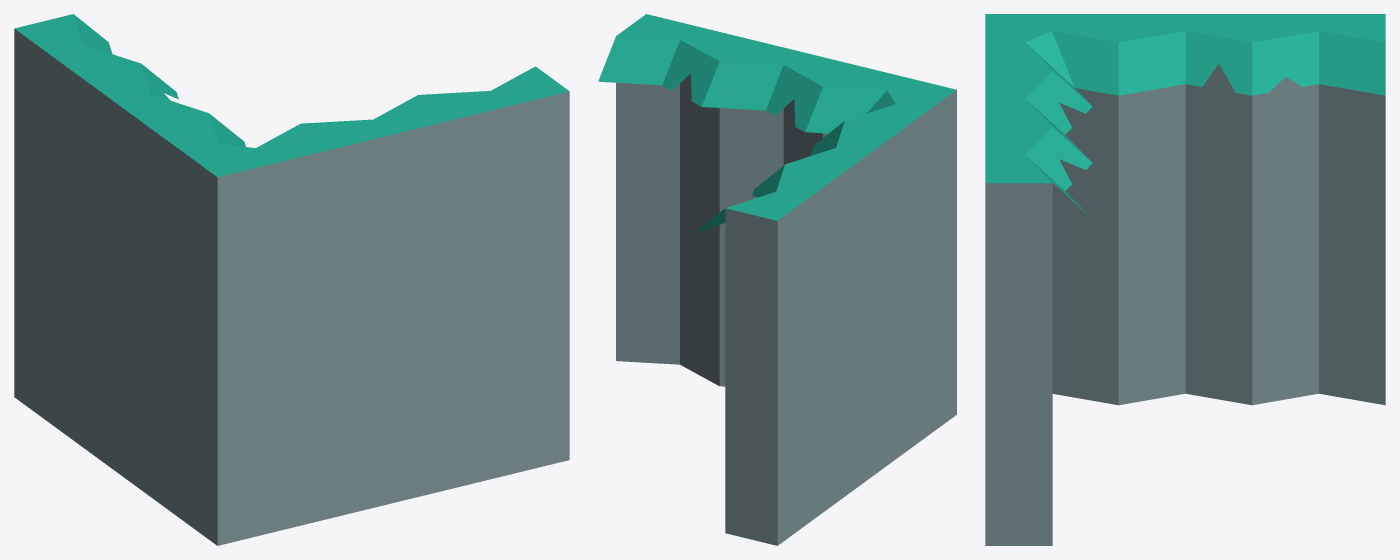
File: cliff_cornerInnerTop_stone.glb
3 renders of one model, left to right at view 1: azimuth 30°, elevation 25°; view 2: azimuth 150°, elevation 25°; view 3: azimuth 270°, elevation 25°, orthographic. The views are drawn at different scales.
Parts seen in each view (by area): view 1: cliff_cornerInnerTop_stone; view 2: cliff_cornerInnerTop_stone; view 3: cliff_cornerInnerTop_stone.
Boxes of the visible parts, x1,y1,x2,y2 form: cliff_cornerInnerTop_stone: (14, 14, 569, 545); cliff_cornerInnerTop_stone: (598, 14, 956, 545); cliff_cornerInnerTop_stone: (985, 14, 1385, 545).
Size of the model in its own units: 1.16 by 1.16 by 1.16.
